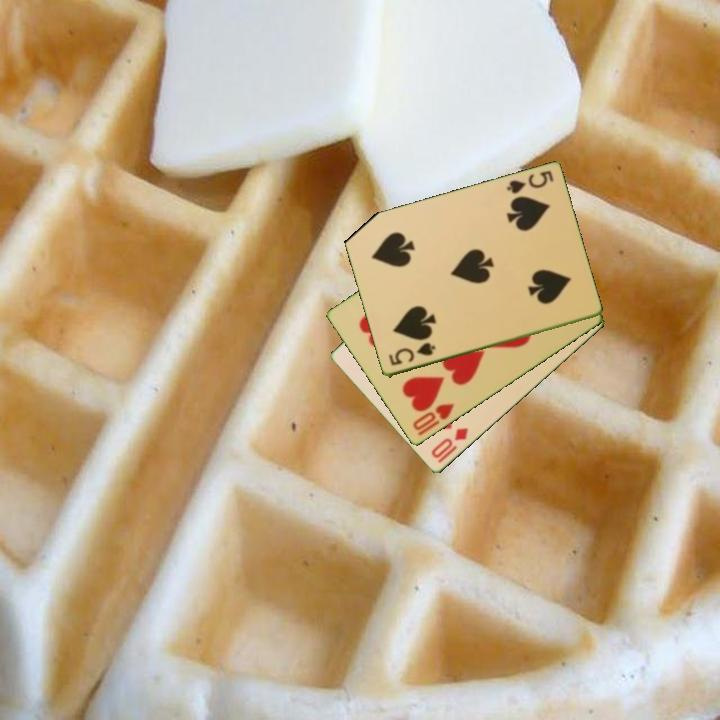10d: (427, 424, 471, 462)
10h: (409, 400, 458, 434)
5s: (385, 339, 438, 369), (503, 167, 556, 197)
